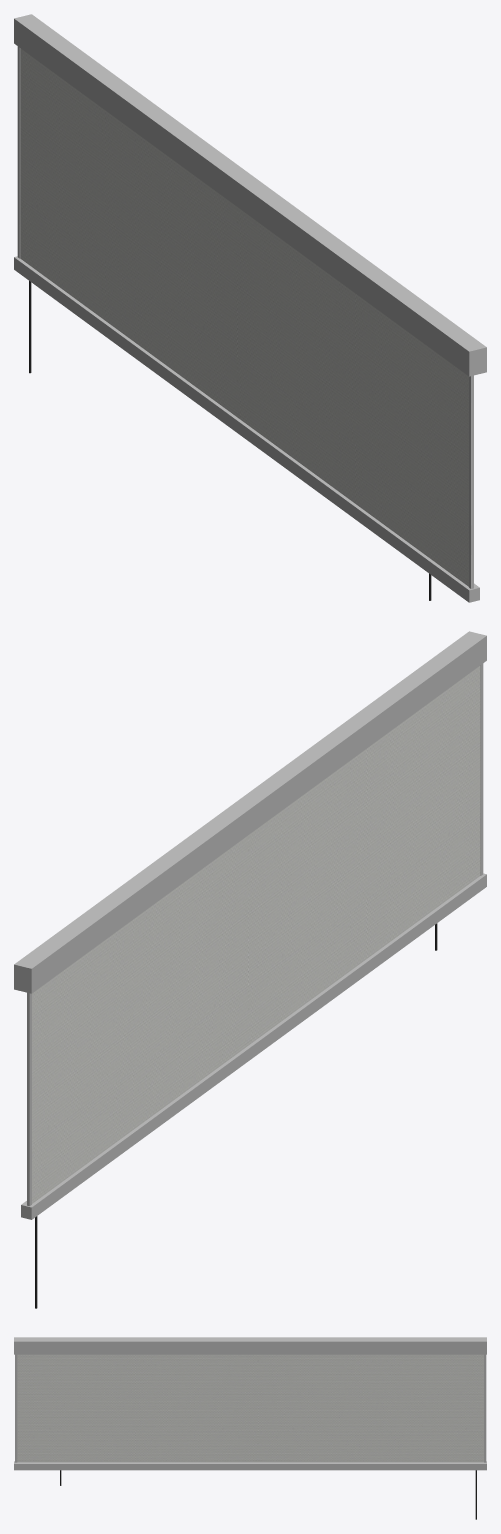
The model's file is window screen white1.FBX.
3 renders of one model, top to bottom at view 1: azimuth 30°, elevation 25°; view 2: azimuth 150°, elevation 25°; view 3: azimuth 270°, elevation 25°, orthographic. The views are drawn at different scales.
Visible parts, largest first — view 1: window screen white1; view 2: window screen white1; view 3: window screen white1.
Part boxes in pixels (x1=…): window screen white1: x1=14, y1=14, x2=486, y2=602; window screen white1: x1=14, y1=631, x2=486, y2=1308; window screen white1: x1=14, y1=1337, x2=486, y2=1519.
Size of the model in its own units: 2.69 by 119 by 50.25.
Materials: 1 (1 with a texture image).
